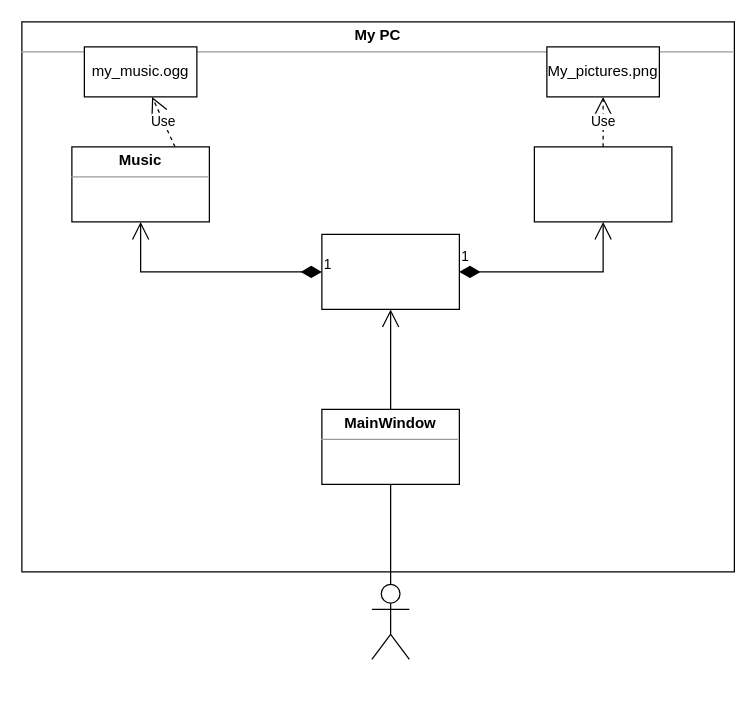
Some shapes in this 756 by 708 pixel diagram are drawn without their labels. Each missing label, with the centre of its shape:
"CreateGame" belongs at [390,271].
"player" belongs at [390,621].
"TextureManager" belongs at [602,184].
